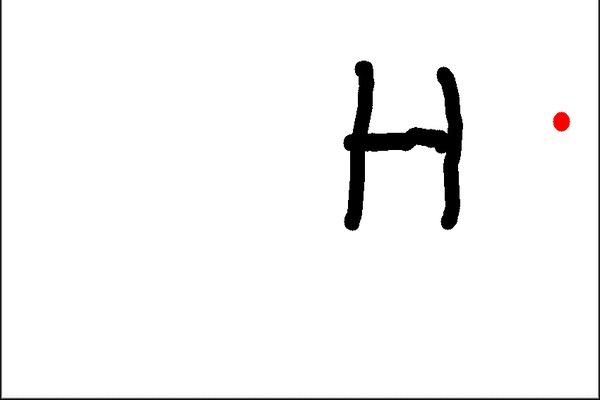H: (337, 51, 468, 247)
